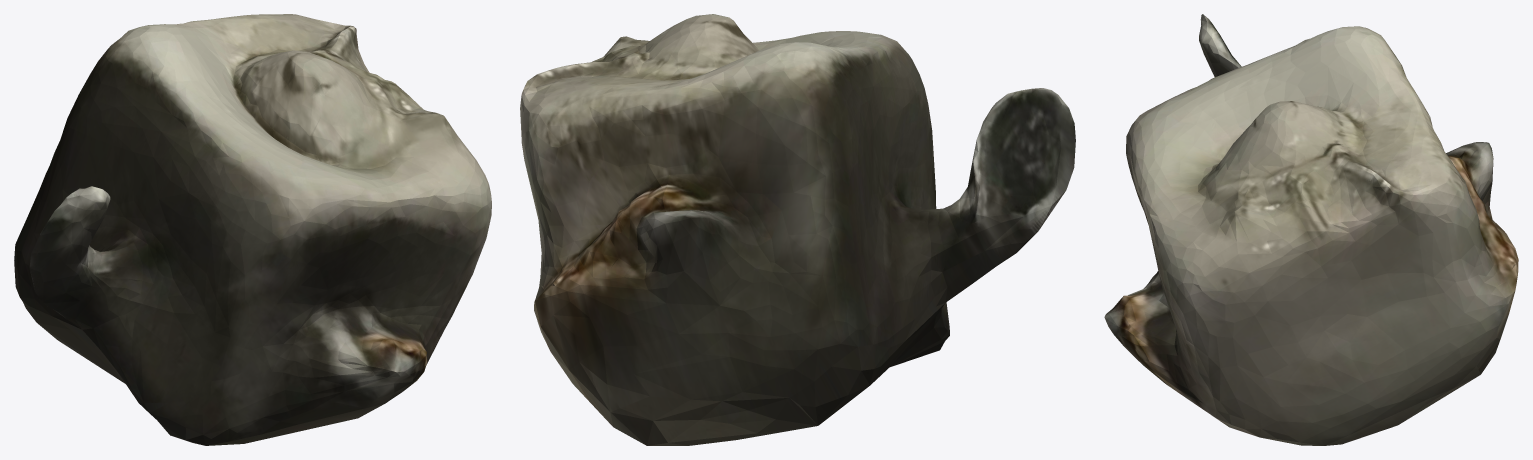
Rendered from DeeMainNoirblanc.glb.
The picture shows the model from 3 angles, left to right: view 1: azimuth 30°, elevation 25°; view 2: azimuth 150°, elevation 25°; view 3: azimuth 270°, elevation 25°; orthographic projection. The views are drawn at different scales.
Bounding box in the file's own units: 0.1727 × 0.142 × 0.1532.
Materials: 1 (1 with a texture image).
